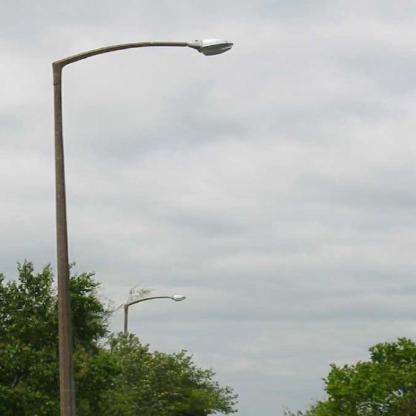Streetlights 1: (39, 33, 241, 415)
Streetlights 6: (113, 289, 198, 337)
